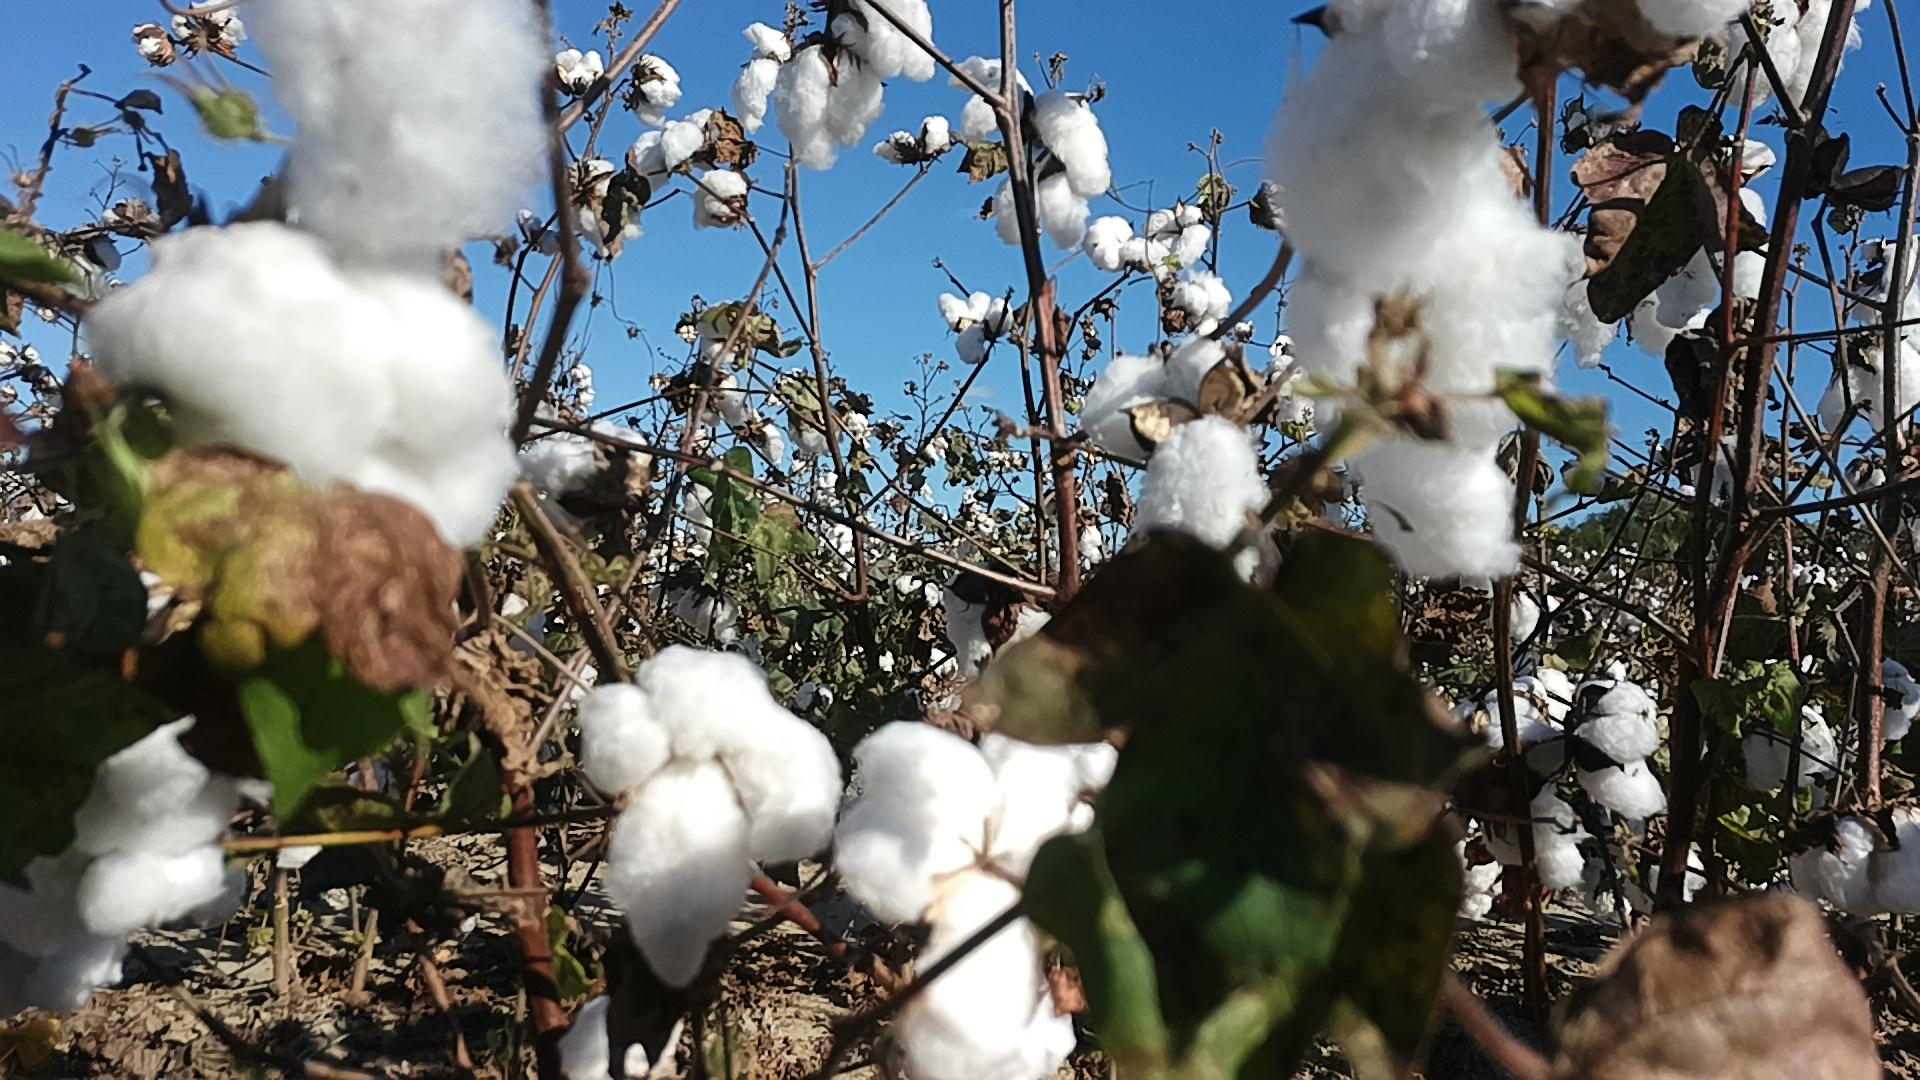cotton_ready: (1266, 0, 1747, 585), (80, 225, 521, 555), (836, 721, 1113, 1080), (574, 646, 840, 981), (244, 0, 560, 253), (0, 708, 233, 1002), (1134, 414, 1273, 595), (1083, 335, 1242, 460), (1652, 186, 1766, 322), (1449, 670, 1581, 777), (778, 46, 885, 173), (1778, 0, 1871, 125), (1535, 232, 1618, 371), (1816, 330, 1920, 436), (553, 998, 687, 1080), (1489, 782, 1589, 886), (1714, 0, 1801, 108), (833, 0, 938, 83), (1787, 818, 1874, 916), (1739, 708, 1837, 791), (994, 170, 1091, 251), (949, 55, 1039, 138), (1577, 676, 1659, 766), (1039, 98, 1112, 196), (1630, 278, 1716, 359), (1572, 752, 1669, 820), (1862, 804, 1920, 913), (1854, 236, 1920, 331), (1718, 136, 1776, 181)
